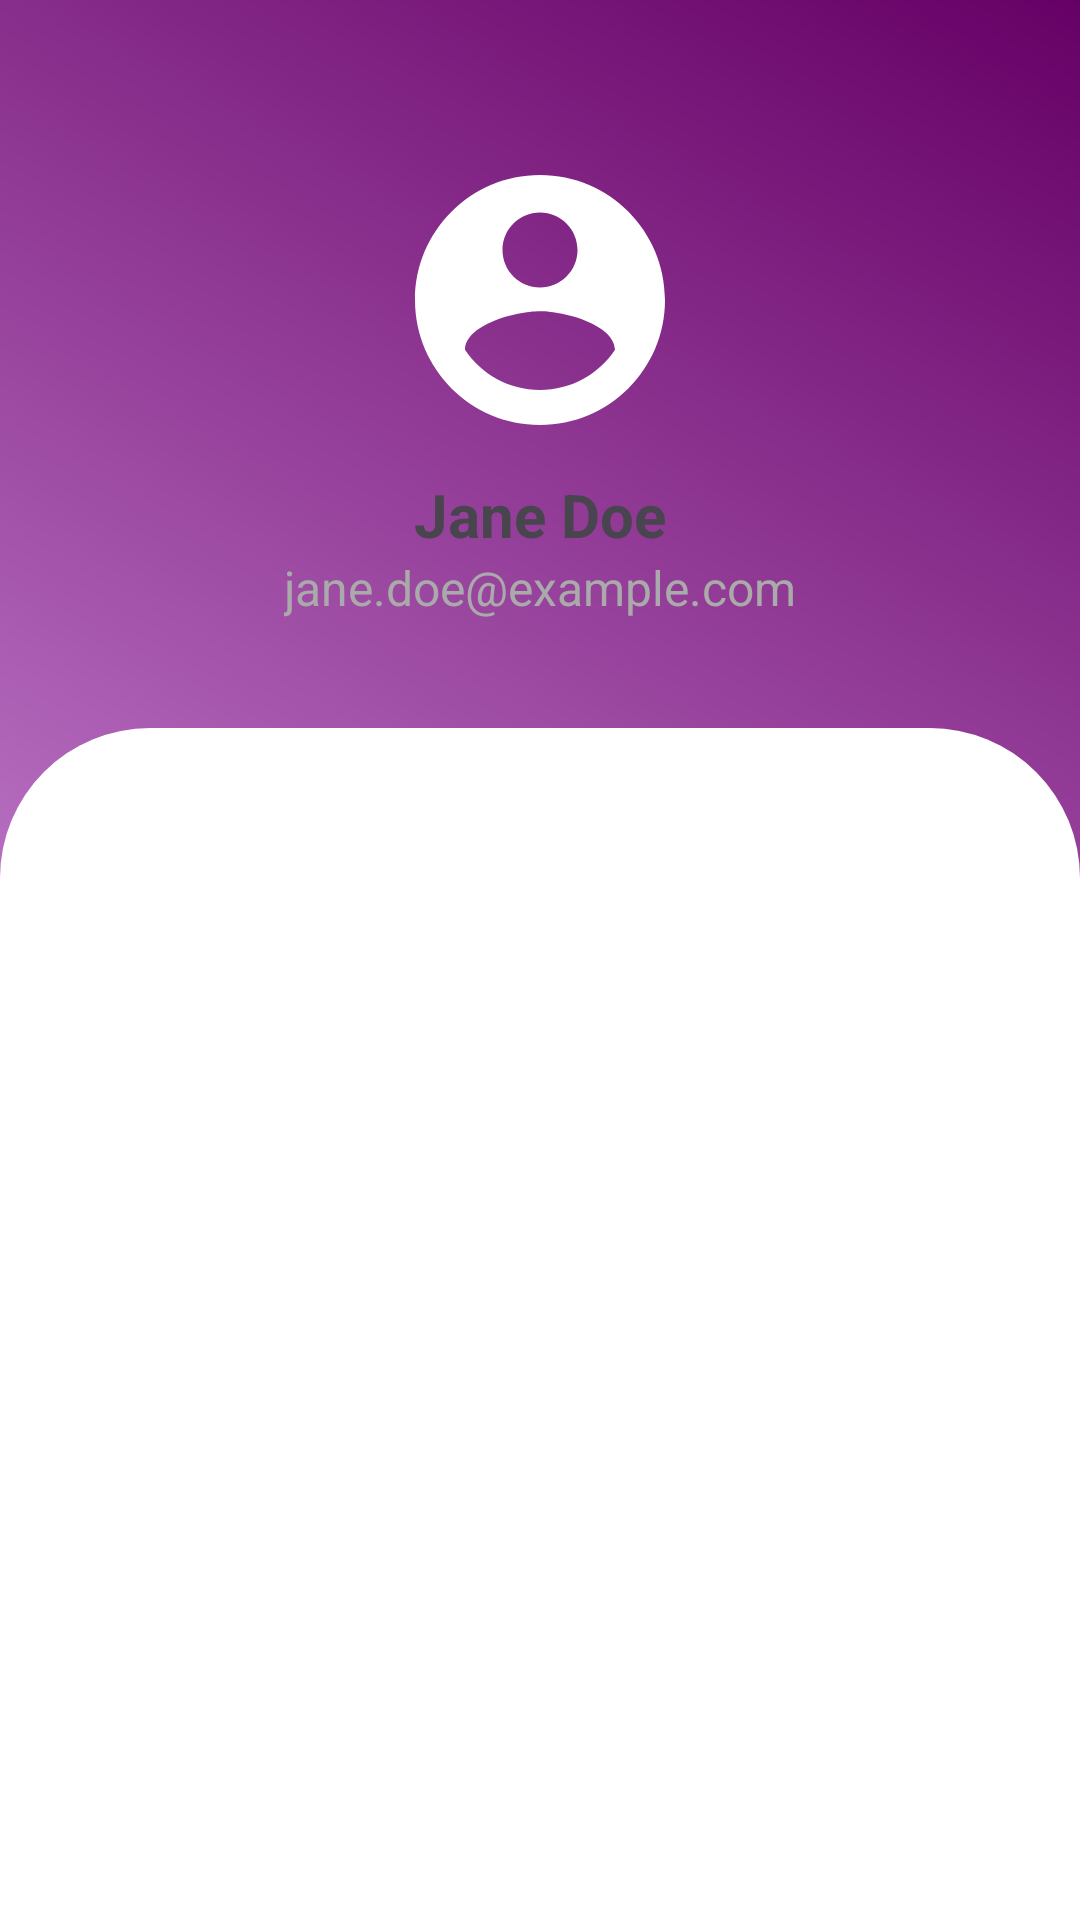

Screen size 1080px x 1920px. Icon name, then its box in pixels as (left=x1, top=y1, right=x2, bottom=y2):
account circle: (left=415, top=175, right=665, bottom=425)
